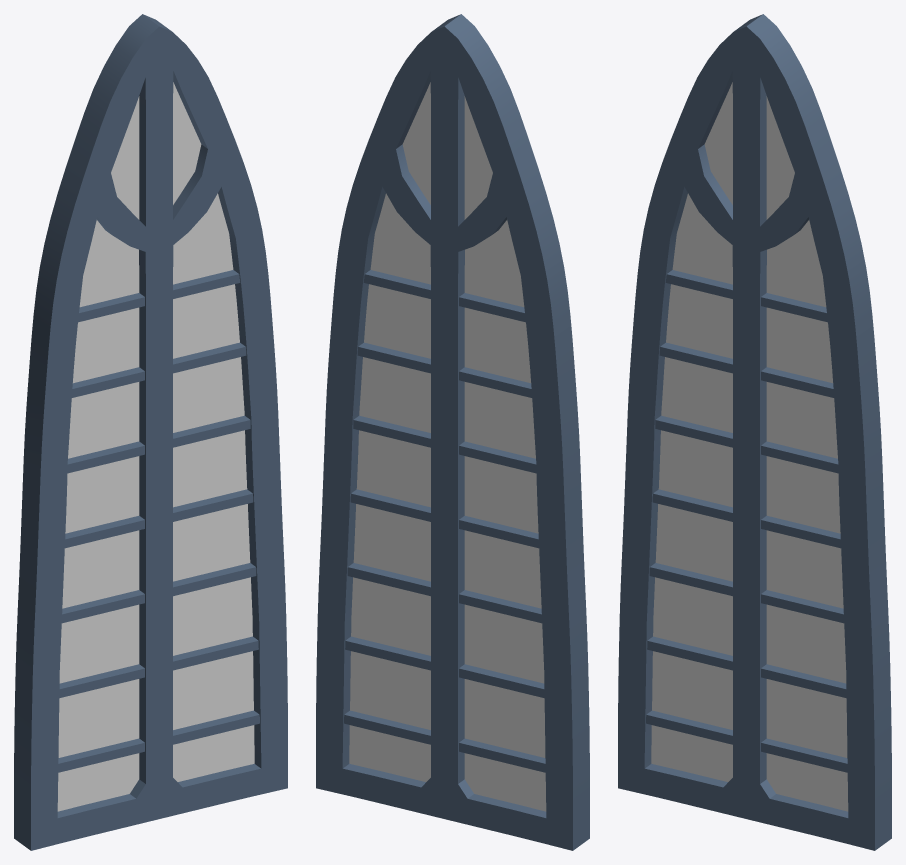
File: TallWindow.fbx
The picture shows the model from 3 angles, left to right: view 1: azimuth 30°, elevation 25°; view 2: azimuth 150°, elevation 25°; view 3: azimuth 330°, elevation 25°; orthographic projection.
Visible parts, largest first — view 1: WindowCombined.002; view 2: WindowCombined.002; view 3: WindowCombined.002.
Part boxes in pixels (<box>): WindowCombined.002: <box>14,14,287,850</box>; WindowCombined.002: <box>316,14,589,850</box>; WindowCombined.002: <box>618,14,891,850</box>.
Bounding box in the file's own units: 1665 × 4911 × 191.
